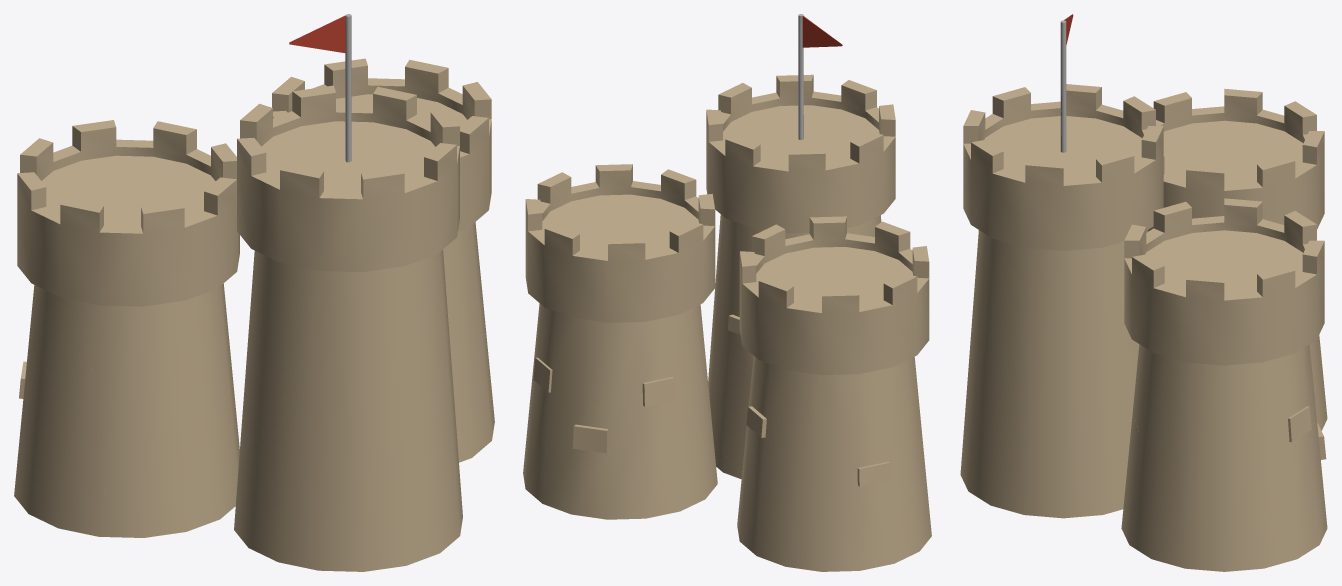
The model's file is Sandcastle-LowBRD_rootss42.fbx.
3 renders of one model, left to right at view 1: azimuth 30°, elevation 25°; view 2: azimuth 150°, elevation 25°; view 3: azimuth 270°, elevation 25°, orthographic. The views are drawn at different scales.
Visible parts, largest first — view 1: Sandcastle_LowBRD_sh_20, Sandcastle_LowBRD_sh_27, Sandcastle_LowBRD_sh_36, Sandcastle_LowBRD_sh_32, Sandcastle_LowBRD_sh_41, Sandcastle_LowBRD_sh_40, Sandcastle_LowBRD_sh_28, Sandcastle_LowBRD_sh_37, Sandcastle_LowBRD_sh_26, Sandcastle_LowBRD_sh_22, Sandcastle_LowBRD_sh_10, Sandcastle_LowBRD_sh_29 (+11 smaller); view 2: Sandcastle_LowBRD_sh_32, Sandcastle_LowBRD_sh_11, Sandcastle_LowBRD_sh_40, Sandcastle_LowBRD_sh_41, Sandcastle_LowBRD_sh_14, Sandcastle_LowBRD_sh_10, Sandcastle_LowBRD_sh_22, Sandcastle_LowBRD_sh_24, Sandcastle_LowBRD_sh_7, Sandcastle_LowBRD_sh_28, Sandcastle_LowBRD_sh_12, Sandcastle_LowBRD_sh_25 (+13 smaller); view 3: Sandcastle_LowBRD_sh_31, Sandcastle_LowBRD_sh_9, Sandcastle_LowBRD_sh_10, Sandcastle_LowBRD_sh_22, Sandcastle_LowBRD_sh_23, Sandcastle_LowBRD_sh_40, Sandcastle_LowBRD_sh_27, Sandcastle_LowBRD_sh_5, Sandcastle_LowBRD_sh_28, Sandcastle_LowBRD_sh_4, Sandcastle_LowBRD_sh_41, Sandcastle_LowBRD_sh_7 (+12 smaller).
Boxes of the visible parts, box(x1,y1,x2,y2) form: Sandcastle_LowBRD_sh_20: box(248, 253, 422, 457); Sandcastle_LowBRD_sh_27: box(236, 337, 458, 570); Sandcastle_LowBRD_sh_36: box(89, 329, 222, 537); Sandcastle_LowBRD_sh_32: box(14, 289, 111, 537); Sandcastle_LowBRD_sh_41: box(17, 138, 140, 333); Sandcastle_LowBRD_sh_40: box(49, 120, 236, 310); Sandcastle_LowBRD_sh_28: box(246, 148, 449, 244); Sandcastle_LowBRD_sh_37: box(141, 315, 239, 516); Sandcastle_LowBRD_sh_26: box(234, 465, 373, 571); Sandcastle_LowBRD_sh_22: box(309, 85, 459, 178); Sandcastle_LowBRD_sh_10: box(324, 58, 491, 223); Sandcastle_LowBRD_sh_29: box(248, 222, 423, 283); Sandcastle_LowBRD_sh_32: box(752, 370, 931, 571); Sandcastle_LowBRD_sh_11: box(539, 241, 707, 439); Sandcastle_LowBRD_sh_40: box(739, 216, 898, 393); Sandcastle_LowBRD_sh_41: box(821, 246, 929, 383); Sandcastle_LowBRD_sh_14: box(523, 398, 655, 517); Sandcastle_LowBRD_sh_10: box(525, 165, 661, 263); Sandcastle_LowBRD_sh_22: box(706, 83, 799, 219); Sandcastle_LowBRD_sh_24: box(715, 172, 857, 332); Sandcastle_LowBRD_sh_7: box(609, 198, 715, 320); Sandcastle_LowBRD_sh_28: box(791, 74, 895, 228); Sandcastle_LowBRD_sh_12: box(597, 431, 710, 519); Sandcastle_LowBRD_sh_25: box(830, 133, 884, 226); Sandcastle_LowBRD_sh_31: box(965, 171, 1130, 416); Sandcastle_LowBRD_sh_9: box(1165, 322, 1312, 553); Sandcastle_LowBRD_sh_10: box(1124, 240, 1324, 363); Sandcastle_LowBRD_sh_22: box(983, 138, 1161, 265); Sandcastle_LowBRD_sh_23: box(986, 408, 1129, 518); Sandcastle_LowBRD_sh_40: box(1163, 117, 1324, 229); Sandcastle_LowBRD_sh_27: box(960, 347, 1138, 502); Sandcastle_LowBRD_sh_5: box(1124, 252, 1317, 455); Sandcastle_LowBRD_sh_28: box(963, 87, 1106, 191); Sandcastle_LowBRD_sh_4: box(1128, 412, 1237, 571); Sandcastle_LowBRD_sh_41: box(1153, 88, 1316, 142); Sandcastle_LowBRD_sh_7: box(1150, 198, 1313, 254).
Bounding box in the file's own units: 352 × 379 × 278.
2 materials, 1 textured.
